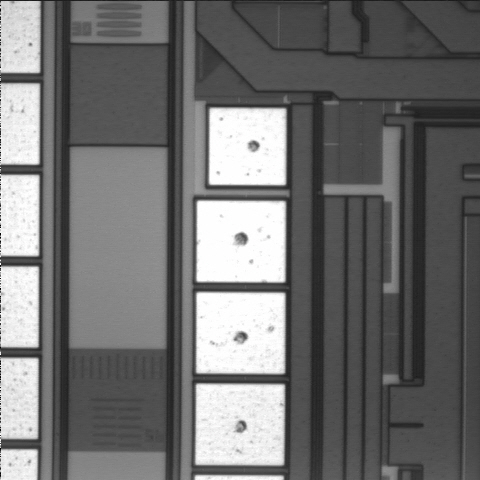pad: (196, 201, 286, 283), (196, 292, 285, 374), (195, 384, 285, 465), (209, 108, 286, 185)
